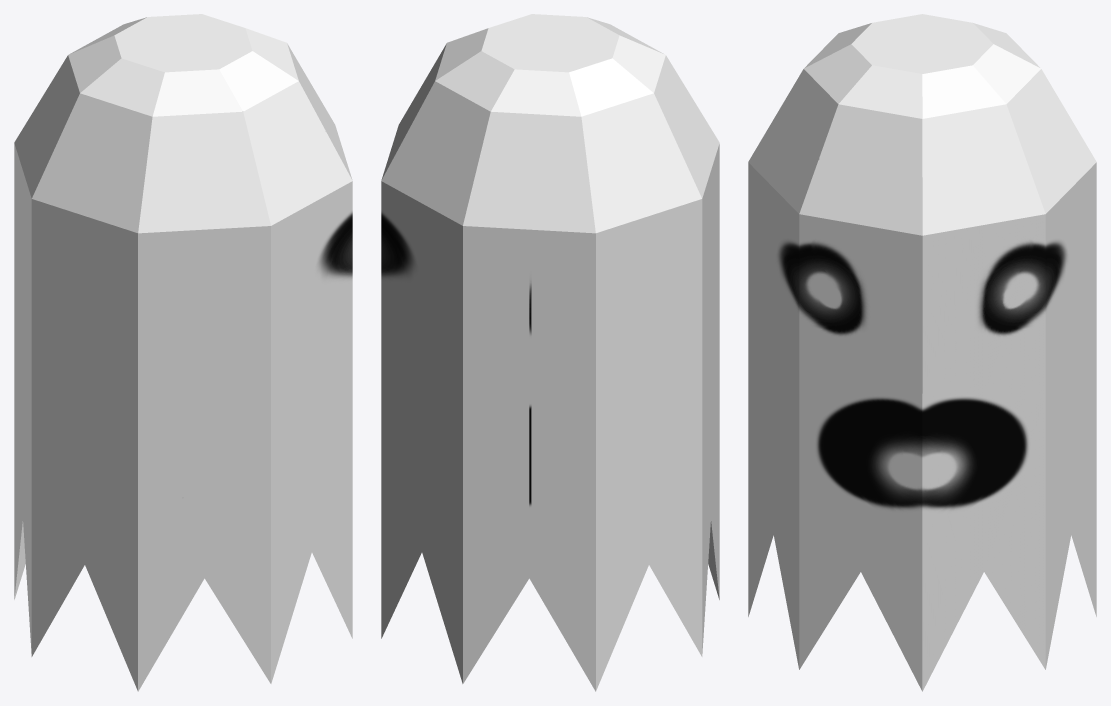
Rendered from EnemyGhost.glb.
The picture shows the model from 3 angles, left to right: view 1: azimuth 30°, elevation 25°; view 2: azimuth 150°, elevation 25°; view 3: azimuth 270°, elevation 25°; orthographic projection.
Parts seen in each view (by area): view 1: Cylinder; view 2: Cylinder; view 3: Cylinder.
Part boxes in pixels (x1,y1,x2,y2): Cylinder: [14, 14, 352, 691]; Cylinder: [381, 14, 719, 691]; Cylinder: [748, 14, 1096, 691].
Bounding box in the file's own units: 5.4 × 9.81 × 5.4.
Materials: 1 (1 with a texture image).
